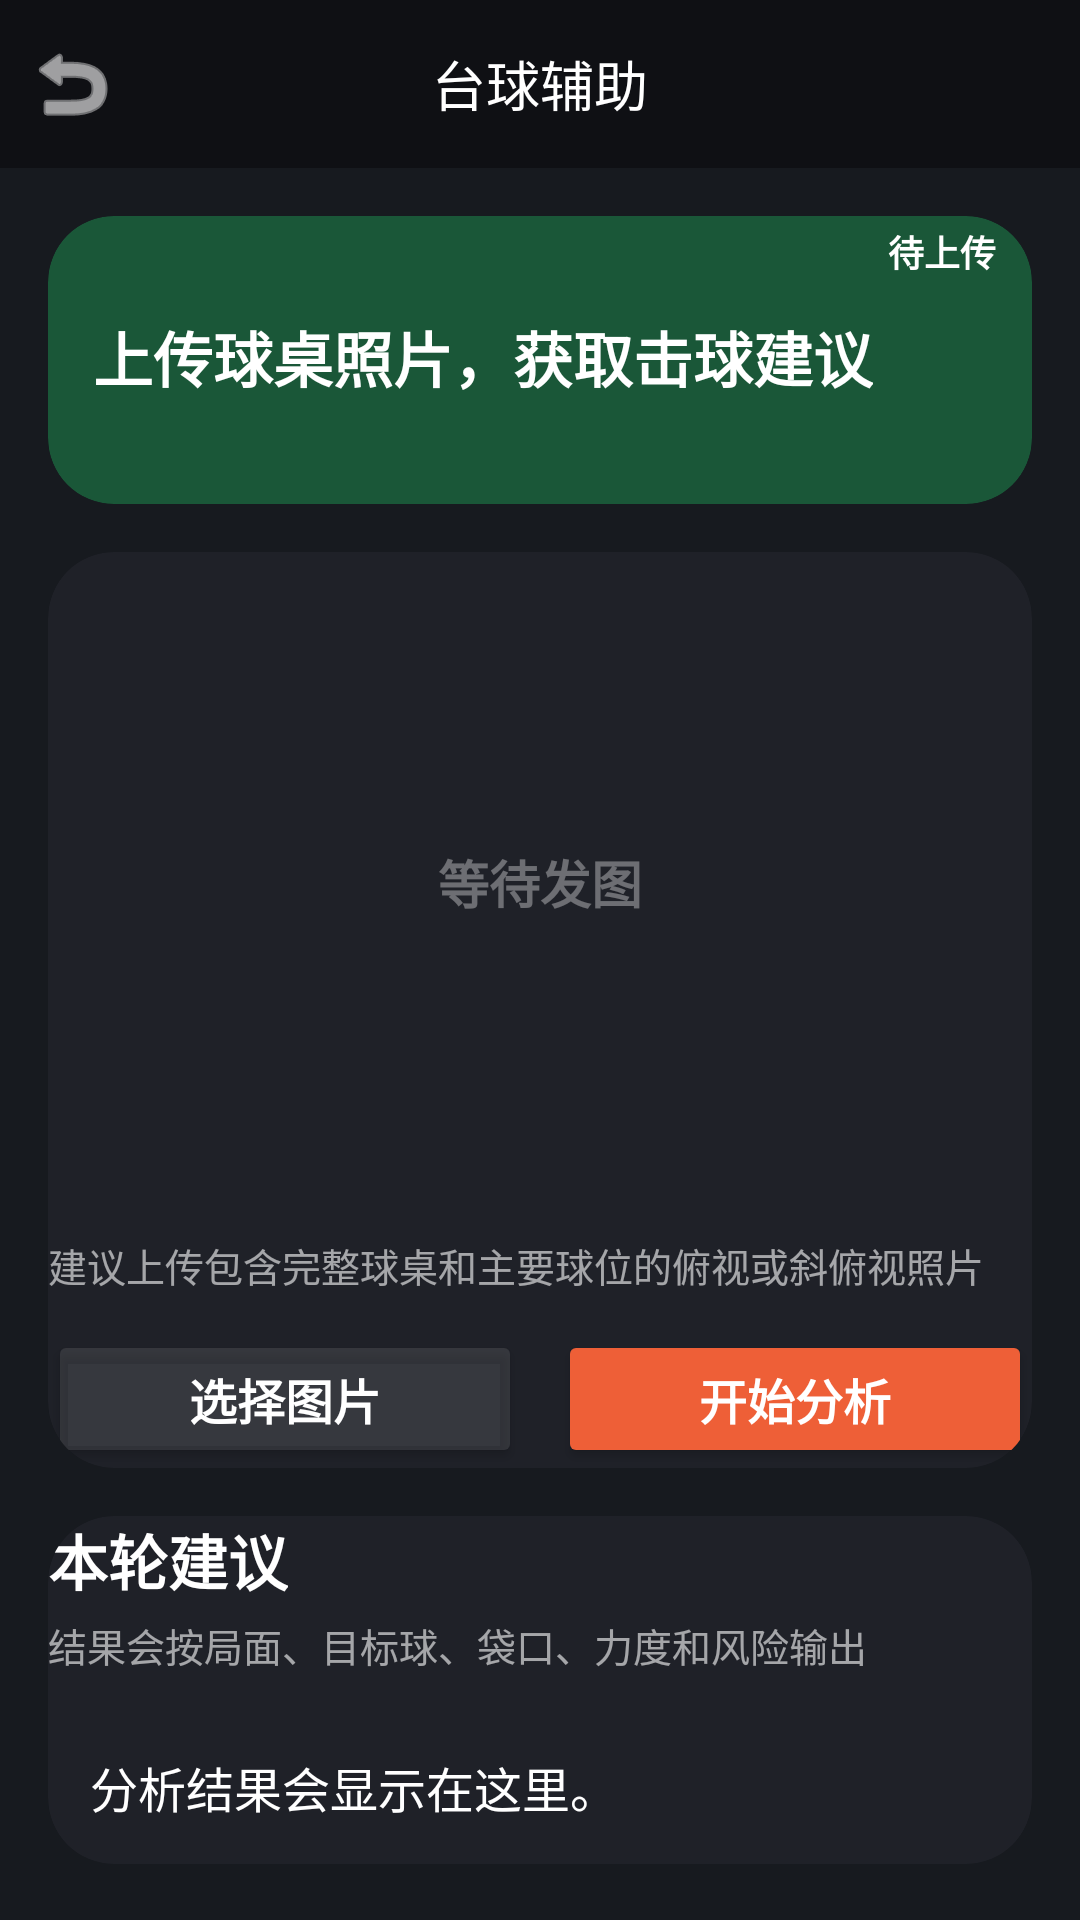

Icon bounding boxes for this 1080x1920 phone screenshot, format (left=x1, top=y1, right=x2, bottom=y2):
revert: (left=39, top=53, right=108, bottom=116)
